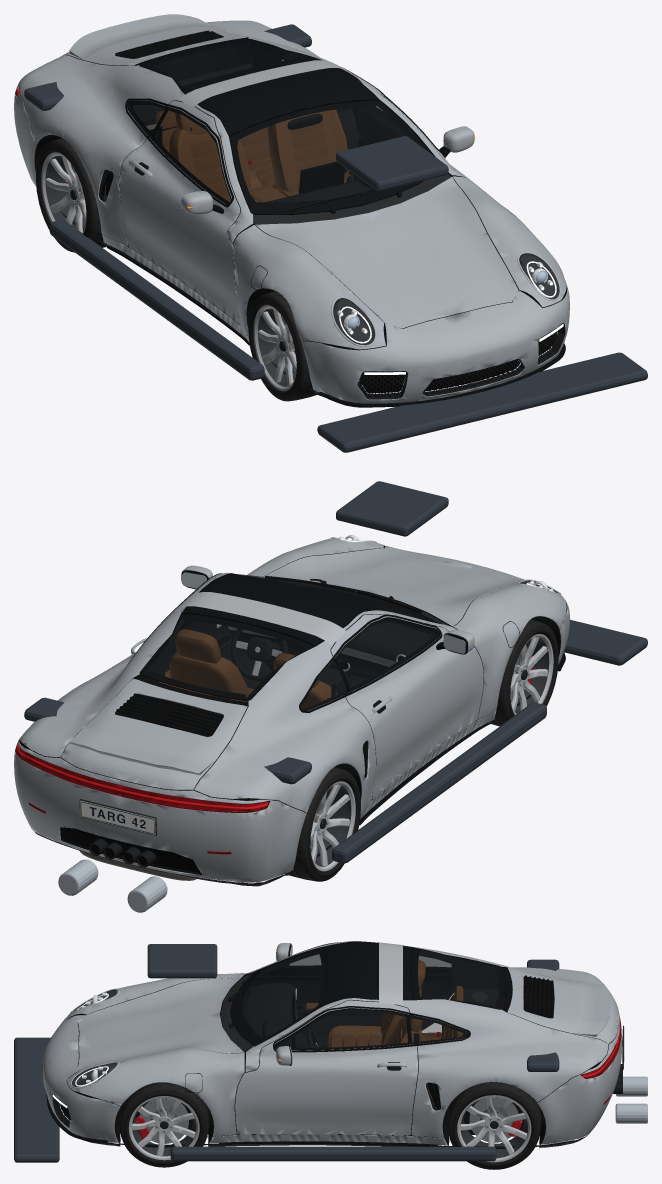
The model's file is car_ada_roadster.glb.
3 renders of one model, top to bottom at view 1: azimuth 30°, elevation 25°; view 2: azimuth 150°, elevation 25°; view 3: azimuth 270°, elevation 25°, orthographic. The views are drawn at different scales.
Parts seen in each view (by area): view 1: Body, Mod_Splitter, Mod_Skirt_-1, Wheel_FR, Wheel_RR, Mod_Hood, Mod_Wing; view 2: Body, Mod_Skirt_-1, Wheel_RR, Wheel_FR, Mod_Hood, Mod_Splitter, Mod_Wing, Steering_Wheel, Mod_Exhaust_1, Mod_Exhaust_-1; view 3: Body, Wheel_RL, Wheel_FL, Mod_Skirt_1, Mod_Splitter, Mod_Hood, Mod_Wing, Mod_Exhaust_1, Mod_Exhaust_-1.
Boxes of the visible parts, x1=… form: Body: x1=14, y1=14, x2=569, y2=407; Mod_Splitter: x1=317, y1=352, x2=647, y2=452; Mod_Skirt_-1: x1=49, y1=219, x2=264, y2=380; Wheel_FR: x1=248, y1=291, x2=318, y2=401; Wheel_RR: x1=36, y1=138, x2=106, y2=252; Mod_Hood: x1=336, y1=136, x2=448, y2=191; Mod_Wing: x1=24, y1=24, x2=311, y2=110; Body: x1=14, y1=535, x2=569, y2=886; Mod_Skirt_-1: x1=332, y1=702, x2=546, y2=863; Wheel_RR: x1=285, y1=767, x2=360, y2=881; Wheel_FR: x1=489, y1=619, x2=558, y2=726; Mod_Hood: x1=336, y1=481, x2=448, y2=536; Mod_Splitter: x1=564, y1=619, x2=647, y2=665; Mod_Wing: x1=24, y1=697, x2=311, y2=784; Steering_Wheel: x1=231, y1=628, x2=287, y2=681; Mod_Exhaust_1: x1=58, y1=859, x2=98, y2=895; Mod_Exhaust_-1: x1=127, y1=876, x2=167, y2=912; Body: x1=43, y1=941, x2=624, y2=1148; Wheel_RL: x1=447, y1=1082, x2=541, y2=1169; Wheel_FL: x1=119, y1=1082, x2=209, y2=1167; Mod_Skirt_1: x1=170, y1=1146, x2=496, y2=1161; Mod_Splitter: x1=14, y1=1037, x2=59, y2=1162; Mod_Hood: x1=147, y1=944, x2=217, y2=978; Mod_Wing: x1=527, y1=959, x2=559, y2=1071; Mod_Exhaust_1: x1=615, y1=1103, x2=647, y2=1123; Mod_Exhaust_-1: x1=615, y1=1076, x2=647, y2=1096.
Size of the model in its own units: 2.12 by 1.33 by 4.73.
Materials: 63 (11 with a texture image).
